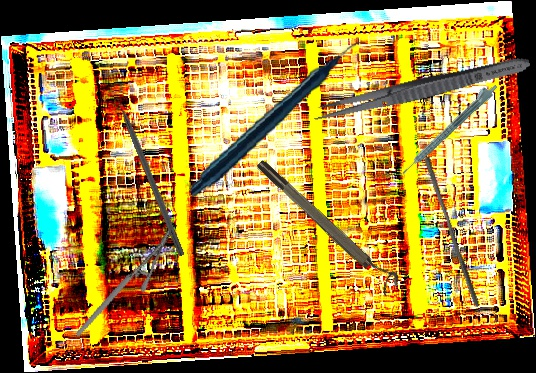Dressing Forceps: (311, 50, 532, 128)
Fixation Ring: (253, 151, 404, 297)
Handpiece: (177, 41, 381, 197), (396, 79, 500, 177)
Hook Surgical: (112, 89, 187, 257)
Needle Holder: (53, 226, 196, 337)
Pusher: (417, 155, 487, 309)
